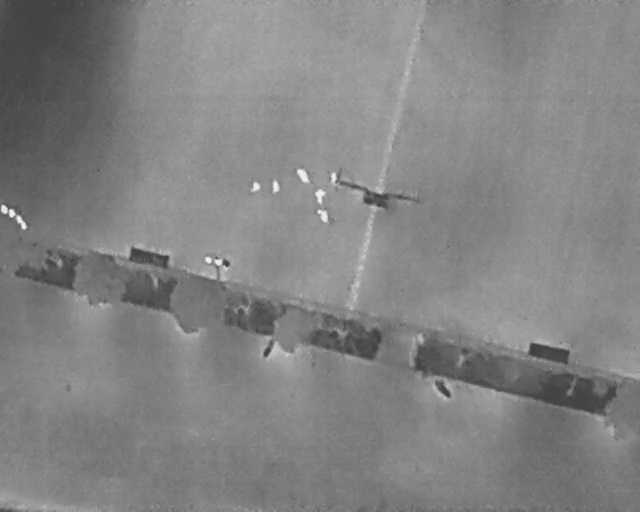Person: (296, 166, 310, 185), (315, 188, 325, 204), (321, 208, 329, 224), (250, 182, 261, 193), (272, 179, 280, 194), (329, 171, 337, 185)
